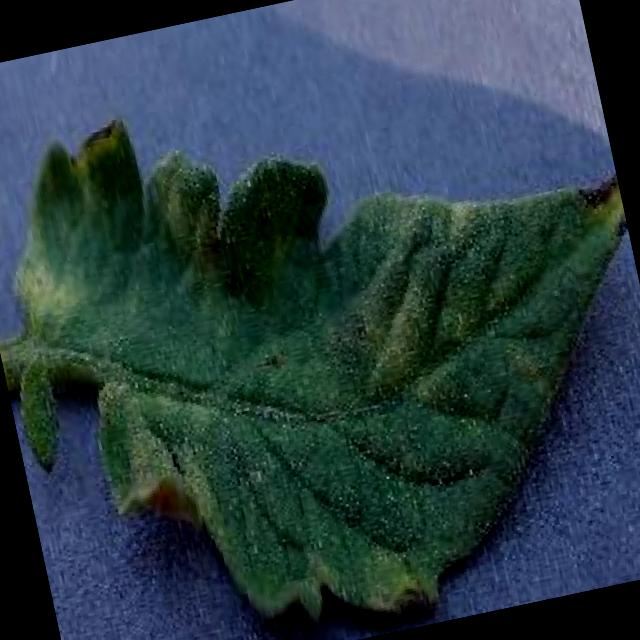leaf mold: (0, 118, 626, 630)
